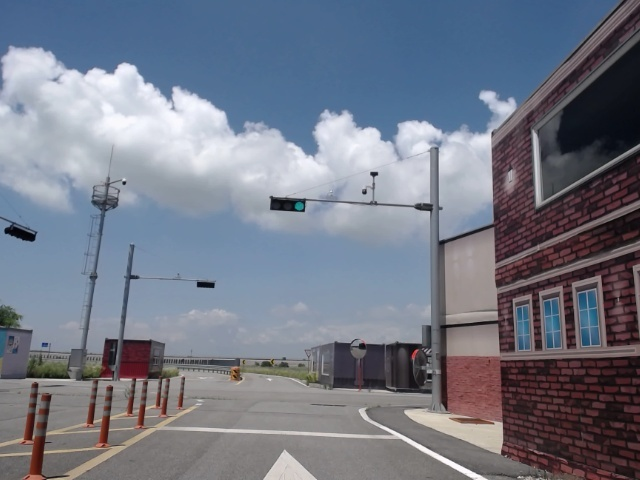green_3: (268, 195, 308, 213)
